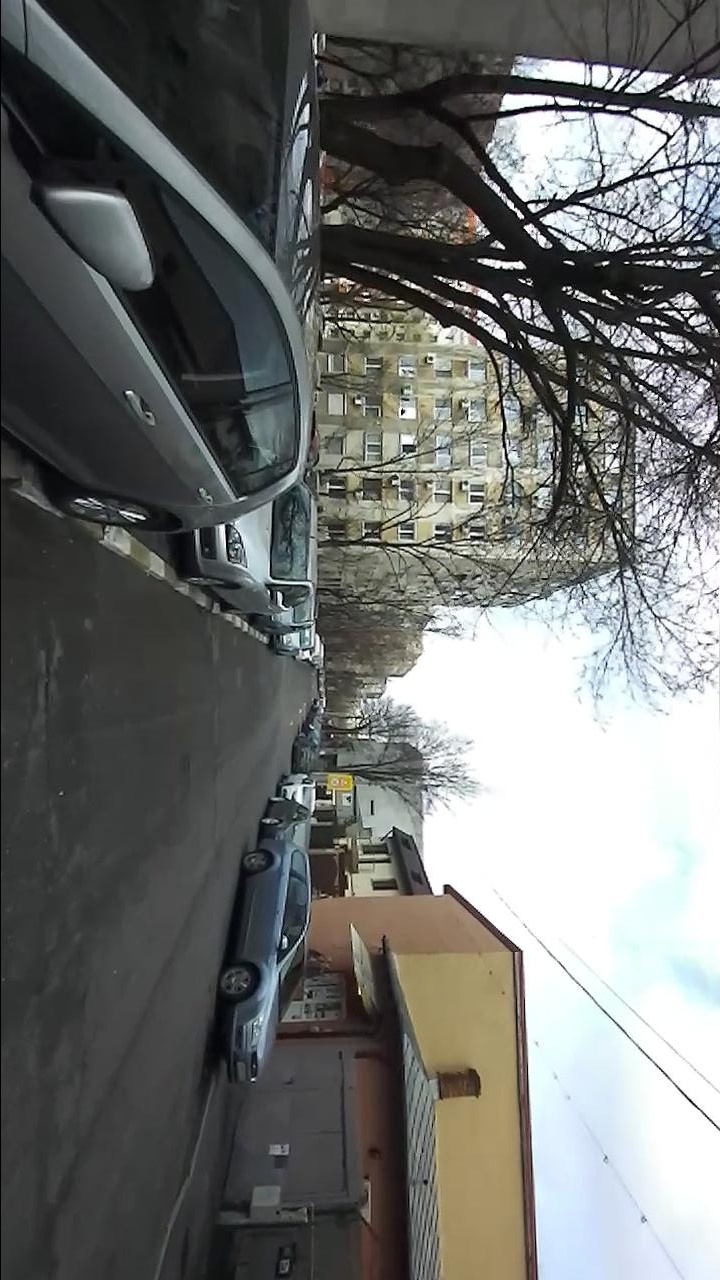pothole: (35, 635, 64, 751), (180, 753, 195, 782)
